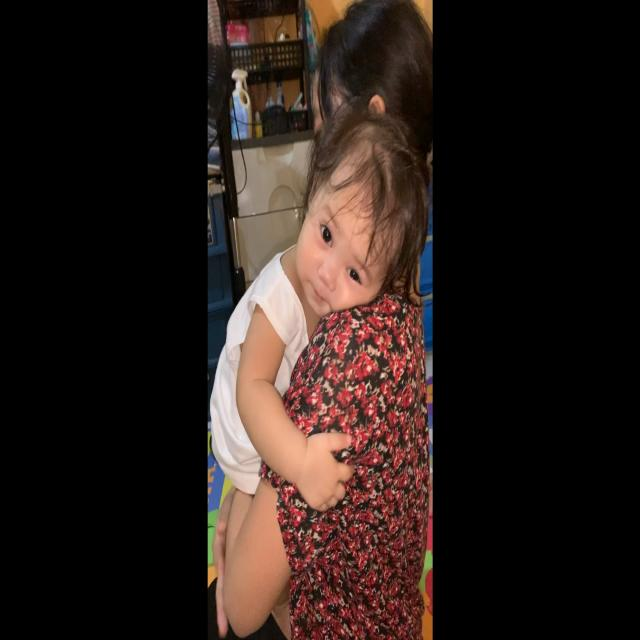adult: (206, 0, 432, 640)
child: (210, 105, 428, 640)
